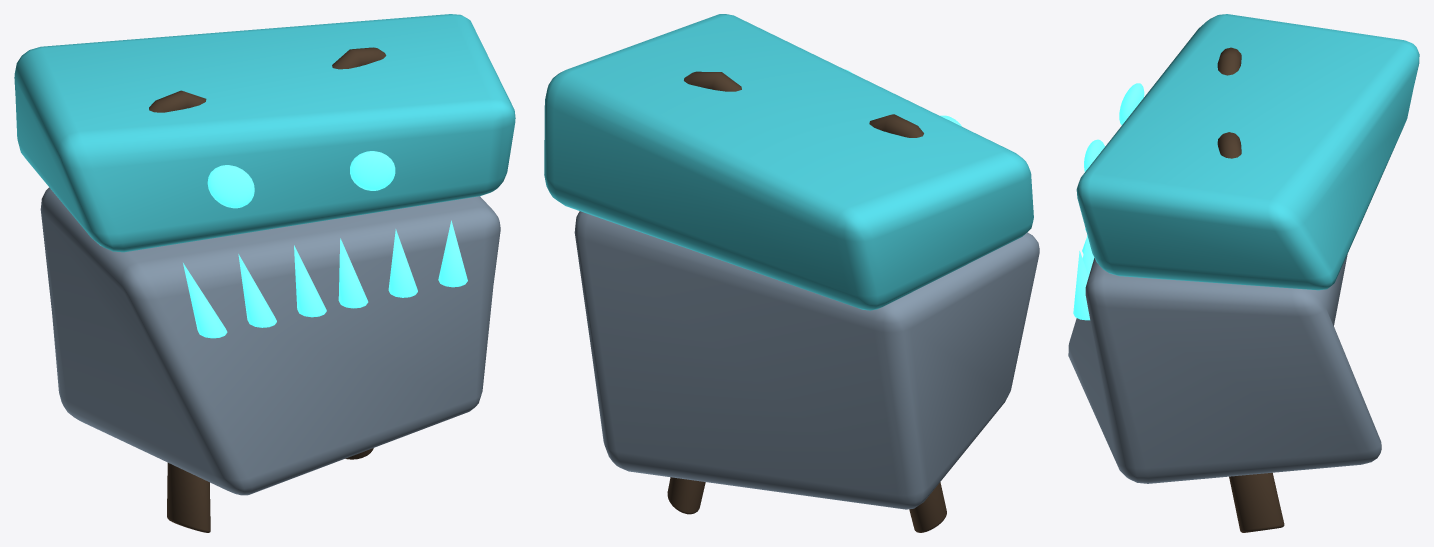
Rendered from mimic_v8.glb.
3 renders of one model, left to right at view 1: azimuth 30°, elevation 25°; view 2: azimuth 150°, elevation 25°; view 3: azimuth 270°, elevation 25°, orthographic. The views are drawn at different scales.
Parts seen in each view (by area): view 1: COFFER_BODY_PRIMARY, HINGED_LID_ACCENT, COFFER_LEG_SECONDARY, EYE_EMISSIVE, EYE_EMISSIVE.001, COFFER_TOOTH_EMISSIVE, COFFER_TOOTH_EMISSIVE.001, COFFER_TOOTH_EMISSIVE.002, COFFER_TOOTH_EMISSIVE.003, COFFER_TOOTH_EMISSIVE.004, COFFER_TOOTH_EMISSIVE.005, SWEEP_ANTLER_SECONDARY (+1 smaller); view 2: COFFER_BODY_PRIMARY, HINGED_LID_ACCENT, COFFER_LEG_SECONDARY, COFFER_LEG_SECONDARY.001, SWEEP_ANTLER_SECONDARY.001, SWEEP_ANTLER_SECONDARY; view 3: HINGED_LID_ACCENT, COFFER_BODY_PRIMARY, COFFER_LEG_SECONDARY.001, COFFER_TOOTH_EMISSIVE.005, EYE_EMISSIVE, SWEEP_ANTLER_SECONDARY, SWEEP_ANTLER_SECONDARY.001.
Part boxes in pixels (x1=…): COFFER_BODY_PRIMARY: x1=40, y1=187, x2=500, y2=495; HINGED_LID_ACCENT: x1=14, y1=14, x2=515, y2=252; COFFER_LEG_SECONDARY: x1=167, y1=463, x2=210, y2=532; EYE_EMISSIVE: x1=207, y1=165, x2=254, y2=208; EYE_EMISSIVE.001: x1=350, y1=151, x2=395, y2=190; COFFER_TOOTH_EMISSIVE: x1=183, y1=263, x2=227, y2=338; COFFER_TOOTH_EMISSIVE.001: x1=238, y1=254, x2=276, y2=327; COFFER_TOOTH_EMISSIVE.002: x1=294, y1=245, x2=326, y2=317; COFFER_TOOTH_EMISSIVE.003: x1=338, y1=238, x2=368, y2=308; COFFER_TOOTH_EMISSIVE.004: x1=388, y1=229, x2=417, y2=297; COFFER_TOOTH_EMISSIVE.005: x1=438, y1=220, x2=467, y2=287; SWEEP_ANTLER_SECONDARY: x1=149, y1=90, x2=206, y2=112; COFFER_BODY_PRIMARY: x1=574, y1=211, x2=1039, y2=509; HINGED_LID_ACCENT: x1=544, y1=14, x2=1033, y2=310; COFFER_LEG_SECONDARY: x1=909, y1=482, x2=946, y2=532; COFFER_LEG_SECONDARY.001: x1=667, y1=477, x2=705, y2=514; SWEEP_ANTLER_SECONDARY.001: x1=684, y1=71, x2=741, y2=91; SWEEP_ANTLER_SECONDARY: x1=869, y1=114, x2=923, y2=137; HINGED_LID_ACCENT: x1=1076, y1=14, x2=1419, y2=290; COFFER_BODY_PRIMARY: x1=1068, y1=254, x2=1381, y2=483; COFFER_LEG_SECONDARY.001: x1=1229, y1=472, x2=1284, y2=532; COFFER_TOOTH_EMISSIVE.005: x1=1073, y1=251, x2=1089, y2=320; EYE_EMISSIVE: x1=1119, y1=83, x2=1144, y2=125; SWEEP_ANTLER_SECONDARY: x1=1217, y1=47, x2=1241, y2=75; SWEEP_ANTLER_SECONDARY.001: x1=1217, y1=132, x2=1241, y2=158.
Bounding box in the file's own units: 2.25 × 2.05 × 1.65.
